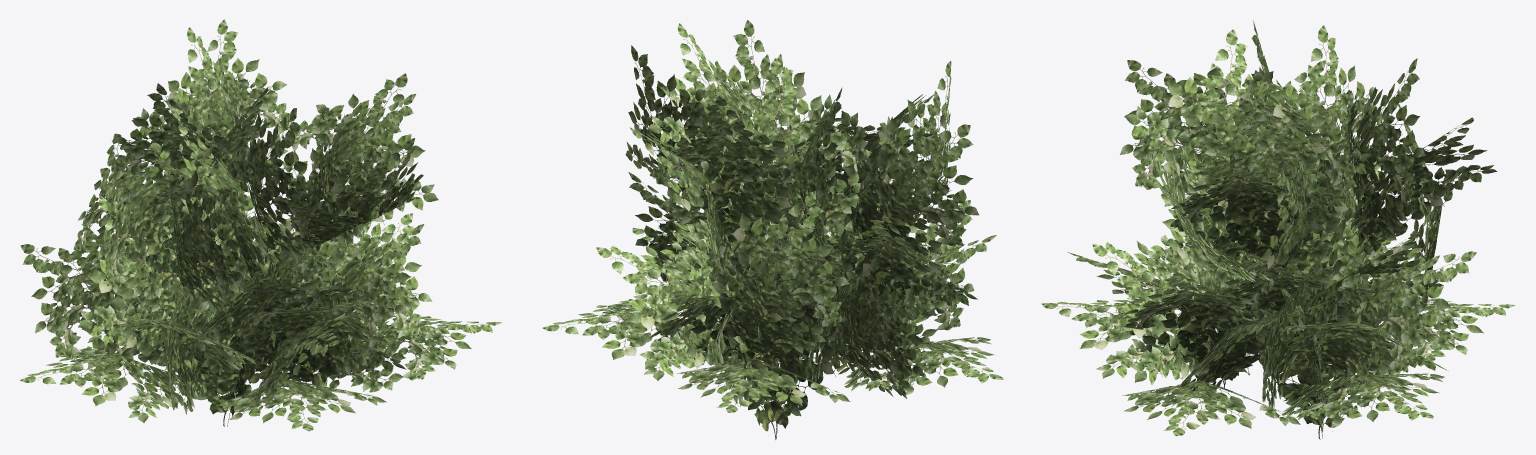
The model's file is bush09_lod01.FBX.
3 views of the same model, side by side, from view 1: azimuth 30°, elevation 25°; view 2: azimuth 150°, elevation 25°; view 3: azimuth 270°, elevation 25° (orthographic). The views are drawn at different scales.
Visible parts, largest first — view 1: bush09_lod01; view 2: bush09_lod01; view 3: bush09_lod01.
Part boxes in pixels (x1=…): bush09_lod01: x1=20, y1=19, x2=501, y2=431; bush09_lod01: x1=542, y1=20, x2=1003, y2=439; bush09_lod01: x1=1041, y1=21, x2=1515, y2=439.
Bounding box in the file's own units: 281 × 231 × 260.
Materials: 1 (1 with a texture image).
